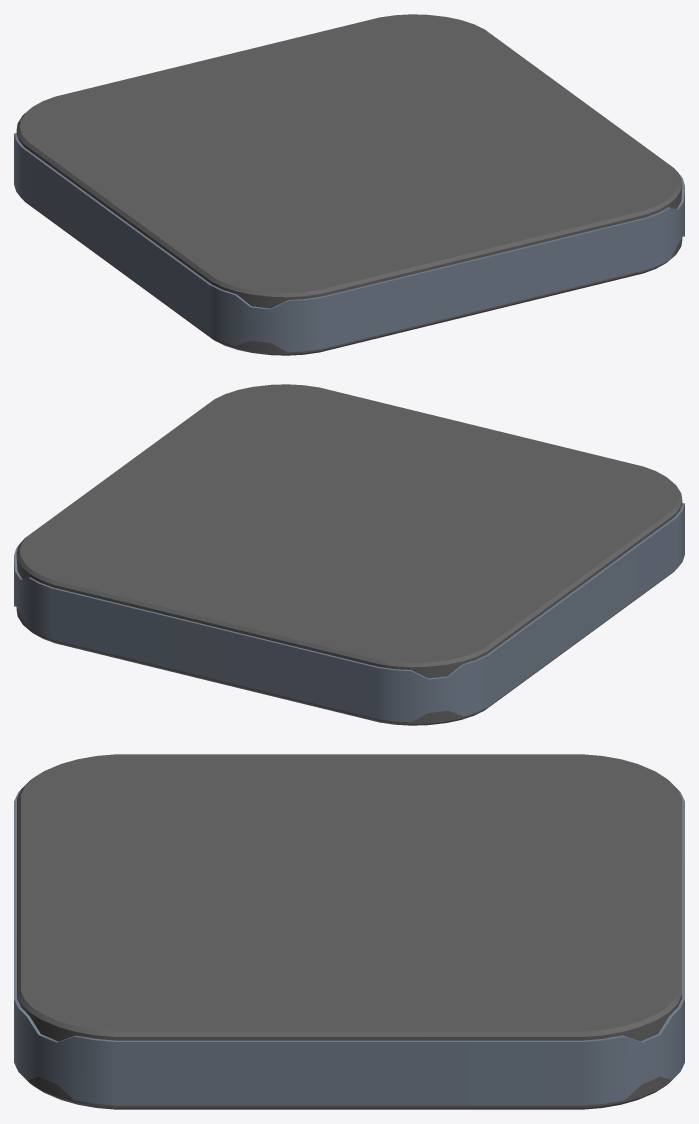
File: env_building_warehouse01middle.fbx
3 renders of one model, top to bottom at view 1: azimuth 30°, elevation 25°; view 2: azimuth 150°, elevation 25°; view 3: azimuth 270°, elevation 25°, orthographic. The views are drawn at different scales.
Parts seen in each view (by area): view 1: polySurface1223; view 2: polySurface1223; view 3: polySurface1223.
Boxes of the visible parts, x1,y1,x2,y2 form: polySurface1223: (14, 14, 684, 355); polySurface1223: (14, 384, 684, 725); polySurface1223: (14, 754, 684, 1109).
Bounding box in the file's own units: 3.38 × 0.4324 × 3.38.
